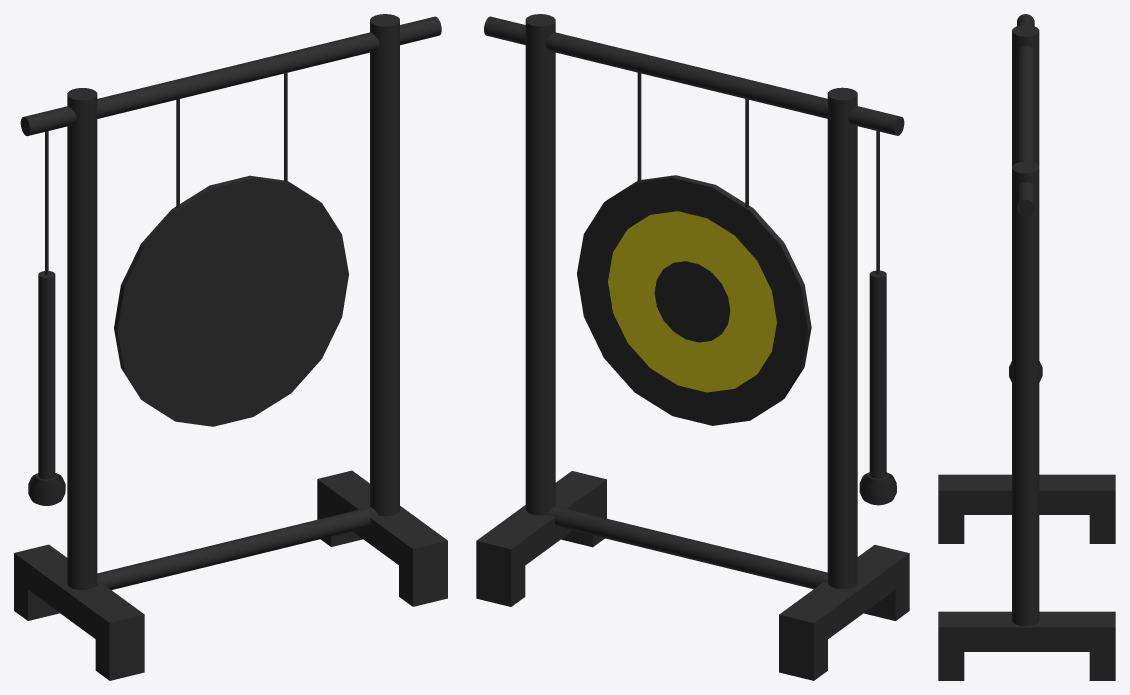
The model's file is c3iMv3-DFuh.glb.
3 views of the same model, side by side, from view 1: azimuth 30°, elevation 25°; view 2: azimuth 150°, elevation 25°; view 3: azimuth 270°, elevation 25° (orthographic). The views are drawn at different scales.
Parts seen in each view (by area): view 1: Cylinder002; view 2: Cylinder002, Cylinder006; view 3: Cylinder002.
Part boxes in pixels (<box>): Cylinder002: <box>14,14,447,680</box>; Cylinder002: <box>476,14,909,680</box>; Cylinder006: <box>608,211,776,392</box>; Cylinder002: <box>938,14,1115,680</box>.
Size of the model in its own units: 0.7865 by 1 by 0.3172.
